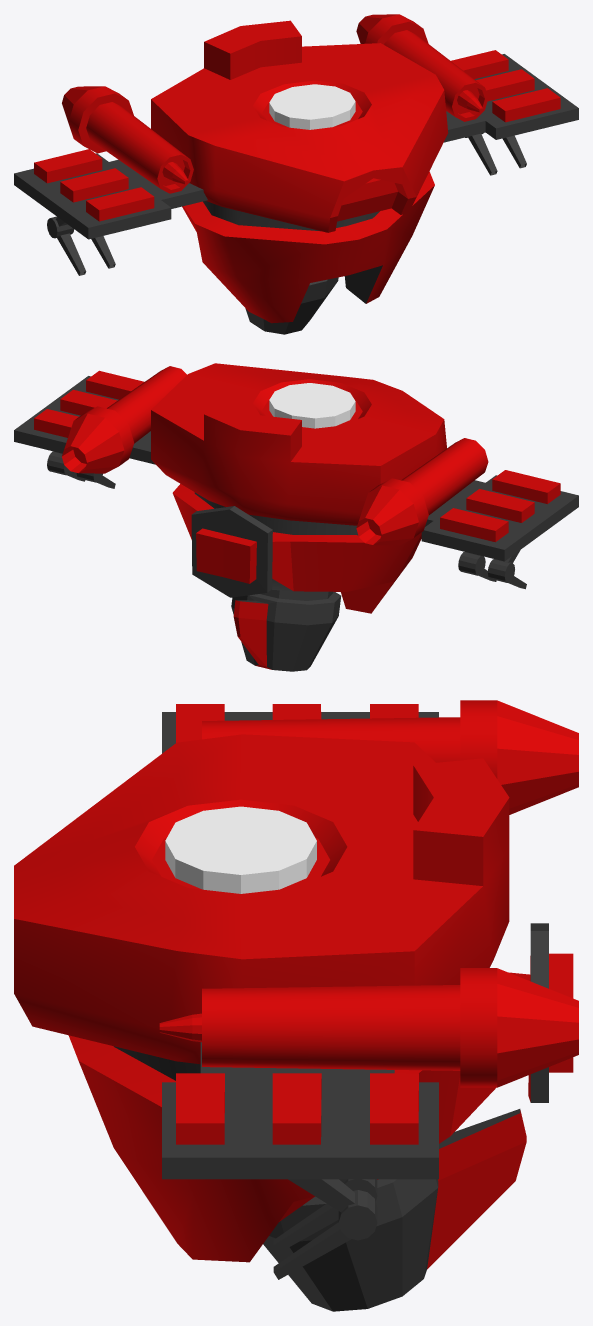
The model's file is robot02_body.fbx.
3 views of the same model, one above another, from view 1: azimuth 30°, elevation 25°; view 2: azimuth 150°, elevation 25°; view 3: azimuth 270°, elevation 25° (orthographic). The views are drawn at different scales.
Parts seen in each view (by area): view 1: robot02_body; view 2: robot02_body; view 3: robot02_body.
Boxes of the visible parts, <box> form: robot02_body: <box>14,14,578,334</box>; robot02_body: <box>14,363,578,671</box>; robot02_body: <box>14,700,578,1311</box>.
Size of the model in its own units: 118 by 61.62 by 63.32.
